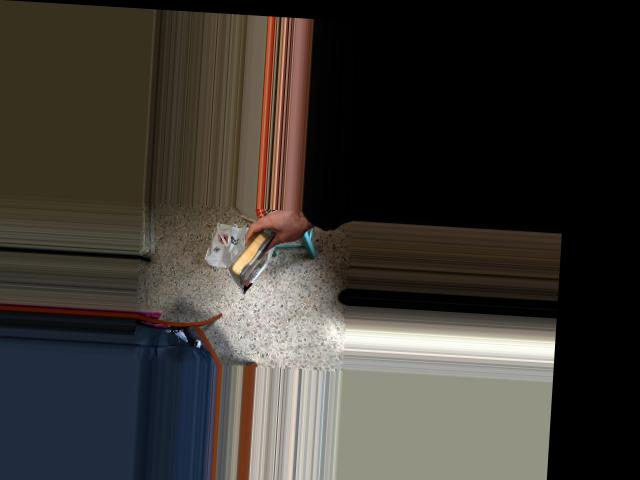cheese: (225, 210, 282, 296)
